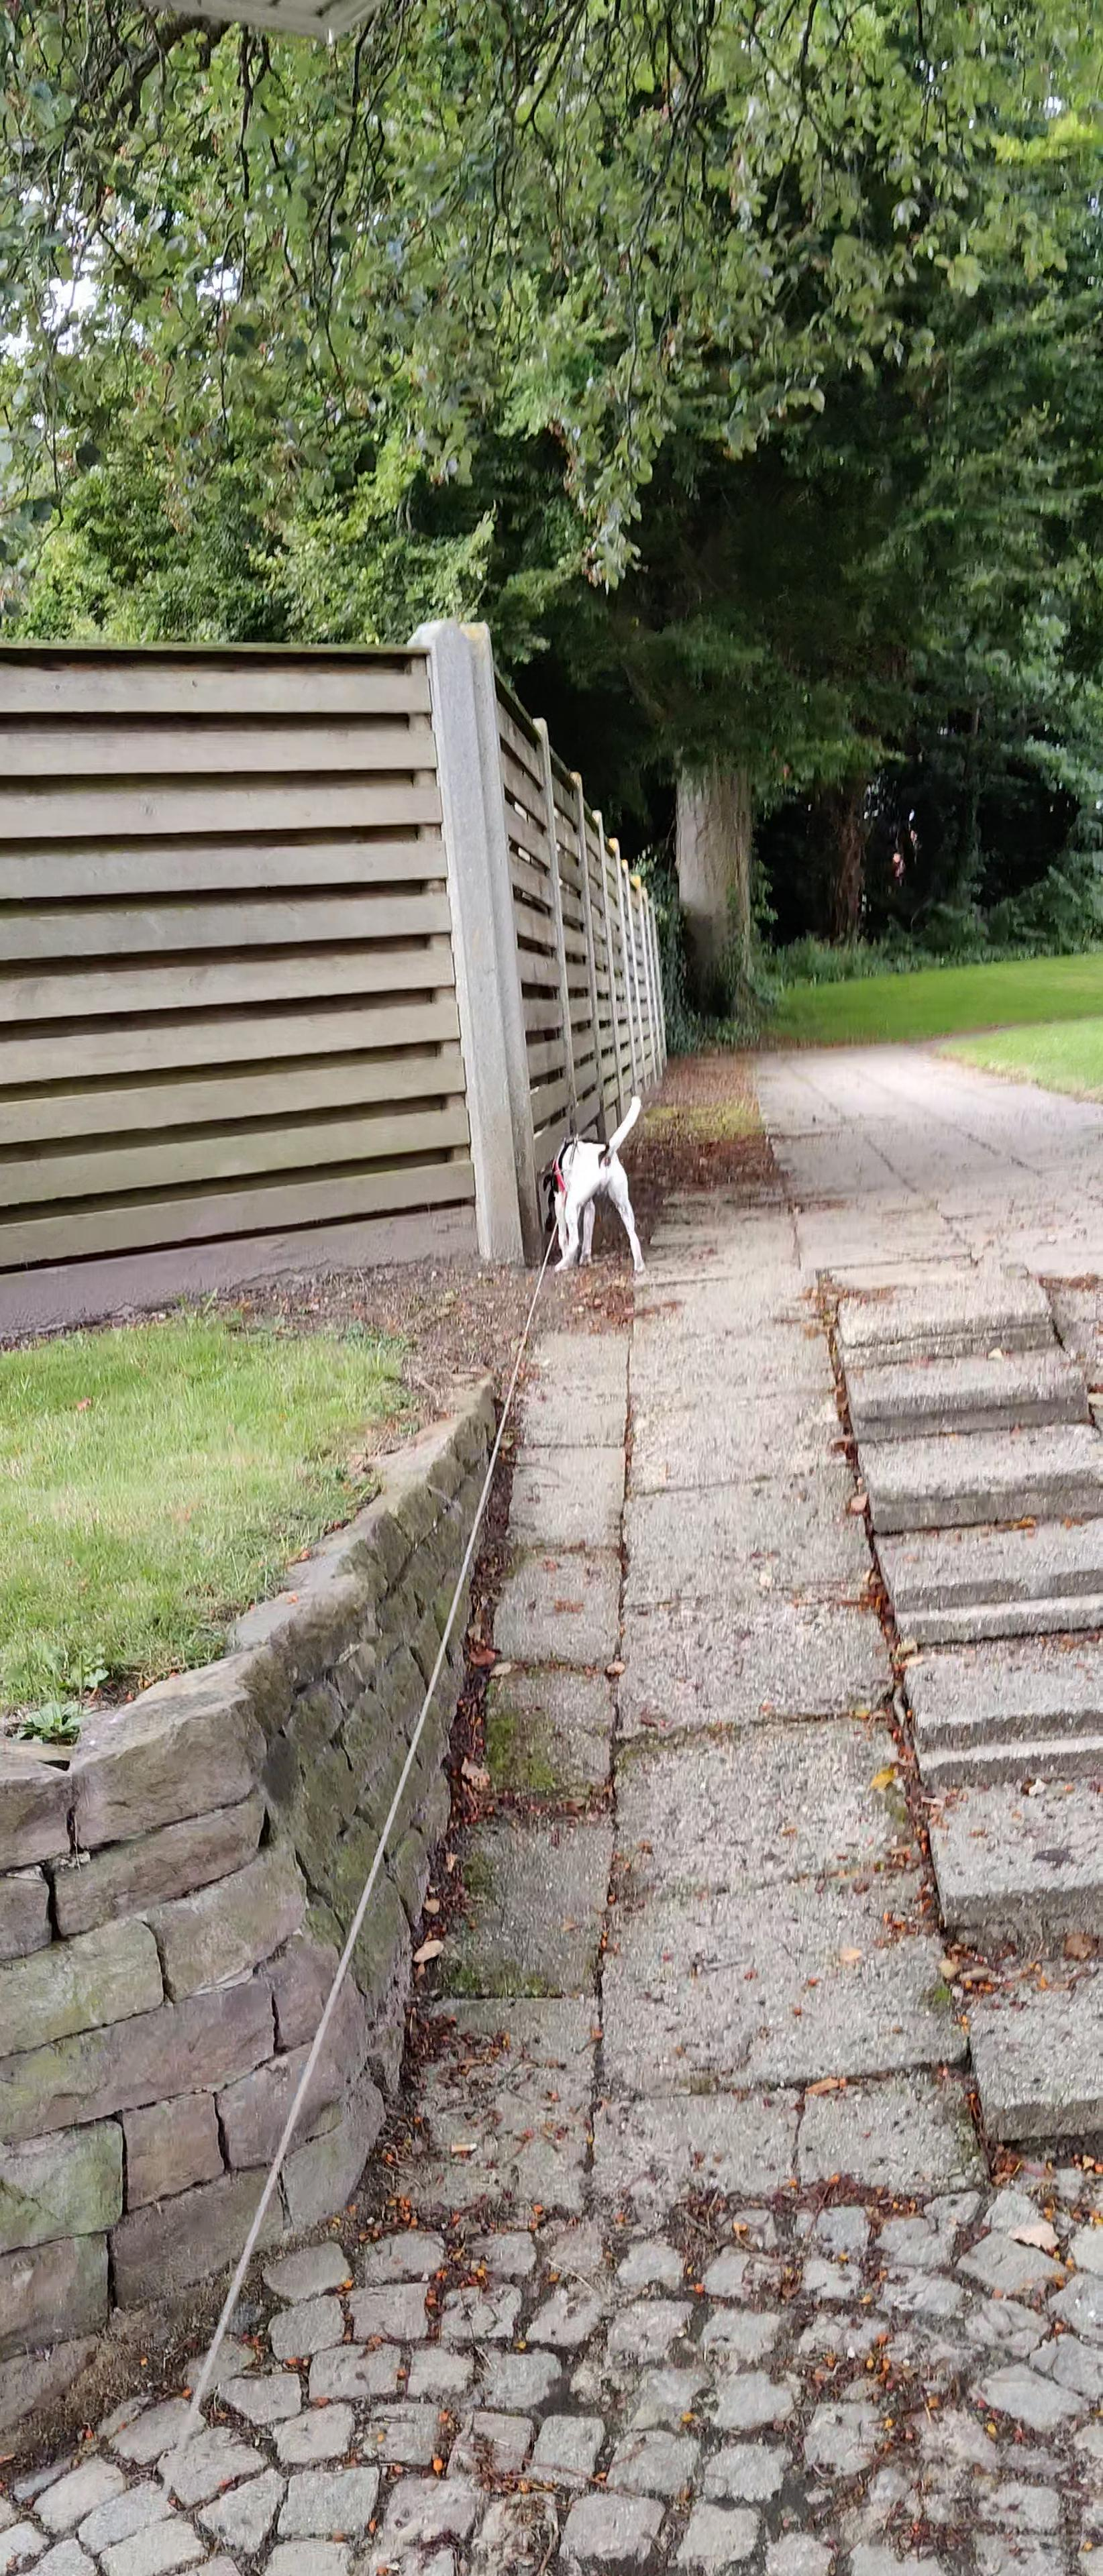Dog: (538, 1094, 654, 1273)
